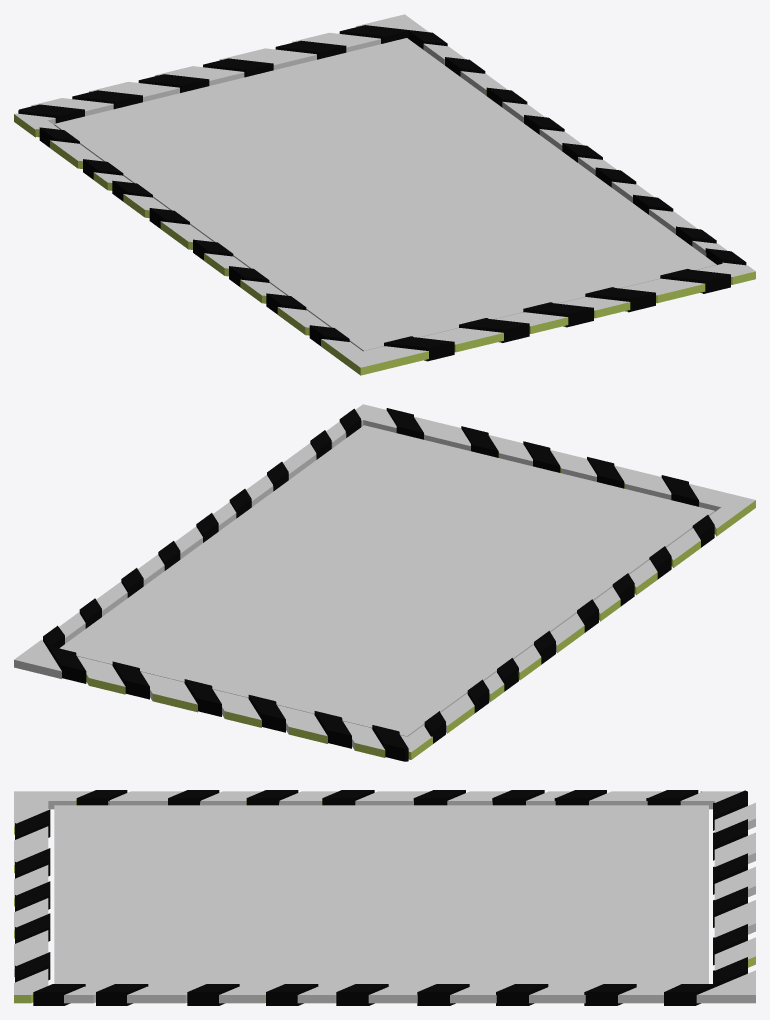
3 views of the same model, one above another, from view 1: azimuth 30°, elevation 25°; view 2: azimuth 150°, elevation 25°; view 3: azimuth 270°, elevation 25° (orthographic). The views are drawn at different scales.
Parts seen in each view (by area): view 1: Cube.002, Cube, Cube.001; view 2: Cube.002, Cube, Cube.001; view 3: Cube.002, Cube, Cube.001.
Part boxes in pixels (x1,y1,x2,y2): Cube.002: [54, 38, 716, 351]; Cube: [14, 14, 755, 375]; Cube.001: [18, 25, 746, 361]; Cube.002: [59, 425, 714, 736]; Cube: [14, 404, 755, 759]; Cube.001: [43, 408, 714, 761]; Cube.002: [54, 805, 708, 986]; Cube: [14, 791, 755, 1003]; Cube.001: [15, 790, 747, 1005].
Size of the model in its own units: 475 by 16.66 by 731.
